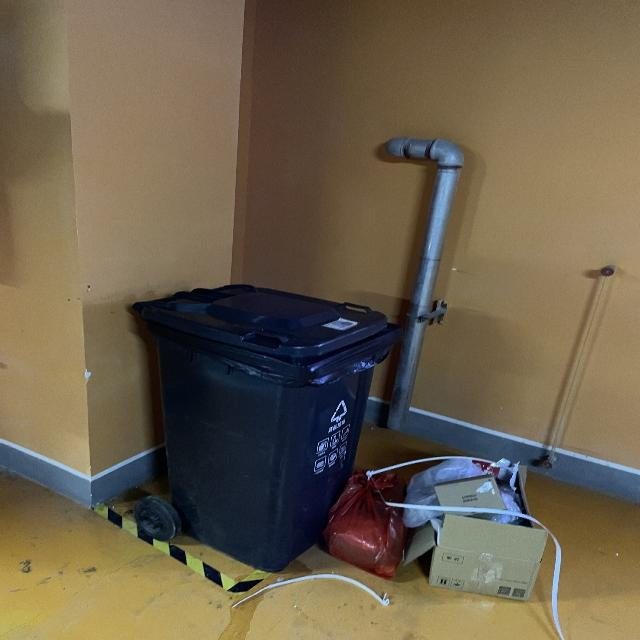garbage: (230, 455, 565, 639)
garbage_bin: (126, 284, 395, 572)
